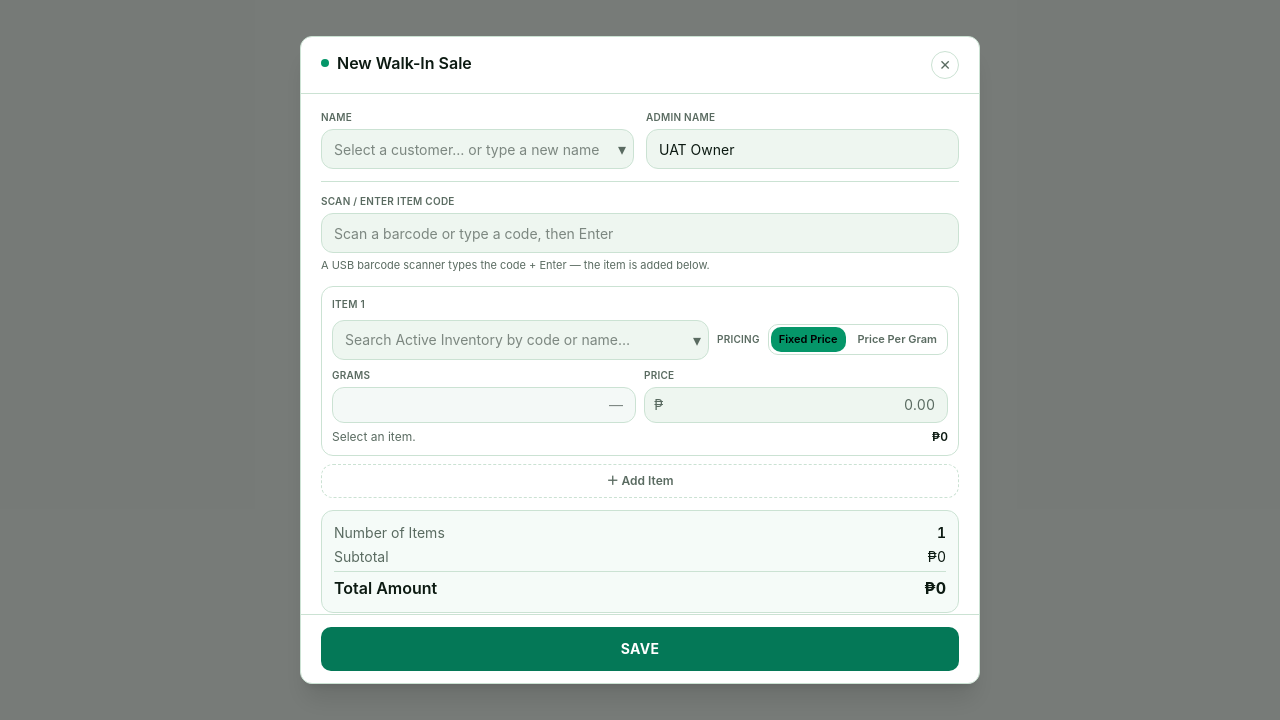
Test: NewOrderWorkflow — multi-item form › switches to Walk In mode with a Save button, item rows, payment amount, and Date
expect the button "Save" is shown: met, box [321,627,959,671]
# The Walk-In item selector offers the sellable inventory item.
Focus the dropdown with placeholder "Search Active Inventory by code or name…": (520, 340) [332,320,709,360]
(page scrolled)
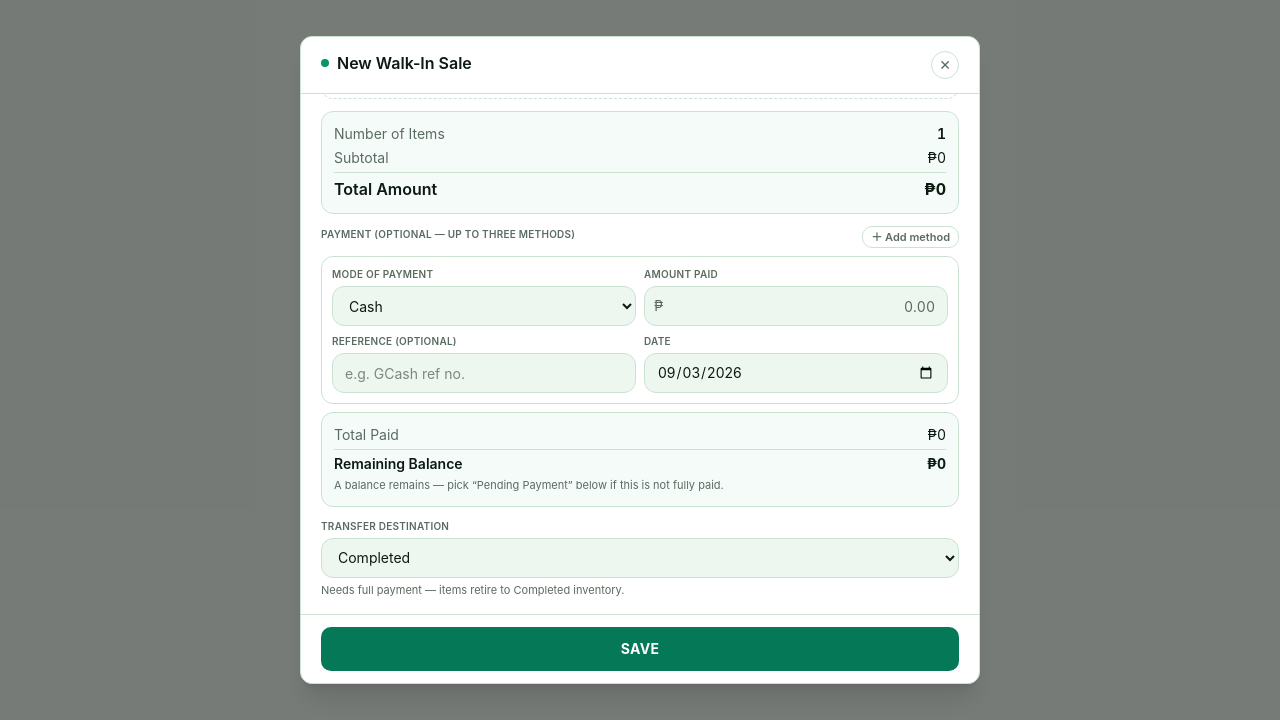
expect the element with test id "walkin-payments" is shown: met, box [321,226,959,507]
expect the text "Mode of Payment" is shown: met, box [332,268,433,280]
expect the text "Amount Paid" is shown: met, box [644,268,718,280]
